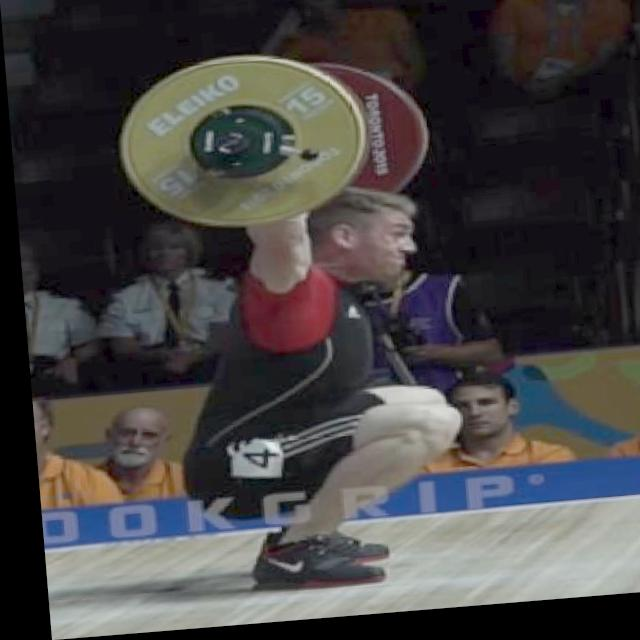barbell: (109, 49, 374, 245)
